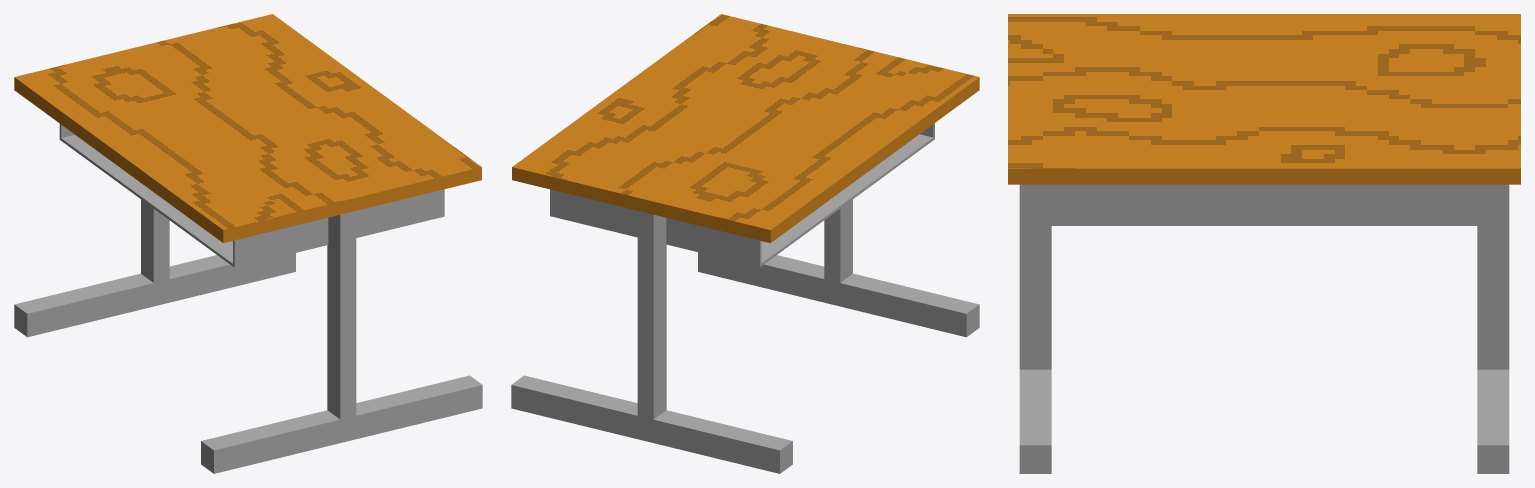
Rendered from Table.glb.
3 views of the same model, side by side, from view 1: azimuth 30°, elevation 25°; view 2: azimuth 150°, elevation 25°; view 3: azimuth 270°, elevation 25° (orthographic). The views are drawn at different scales.
Visible parts, largest first — view 1: Cube; view 2: Cube; view 3: Cube.
Boxes of the visible parts, bbox=[...] form: Cube: bbox=[14, 14, 482, 473]; Cube: bbox=[511, 14, 979, 473]; Cube: bbox=[1008, 14, 1520, 473].
Bounding box in the file's own units: 1.48 × 1.3 × 2.
1 material, 1 textured.
